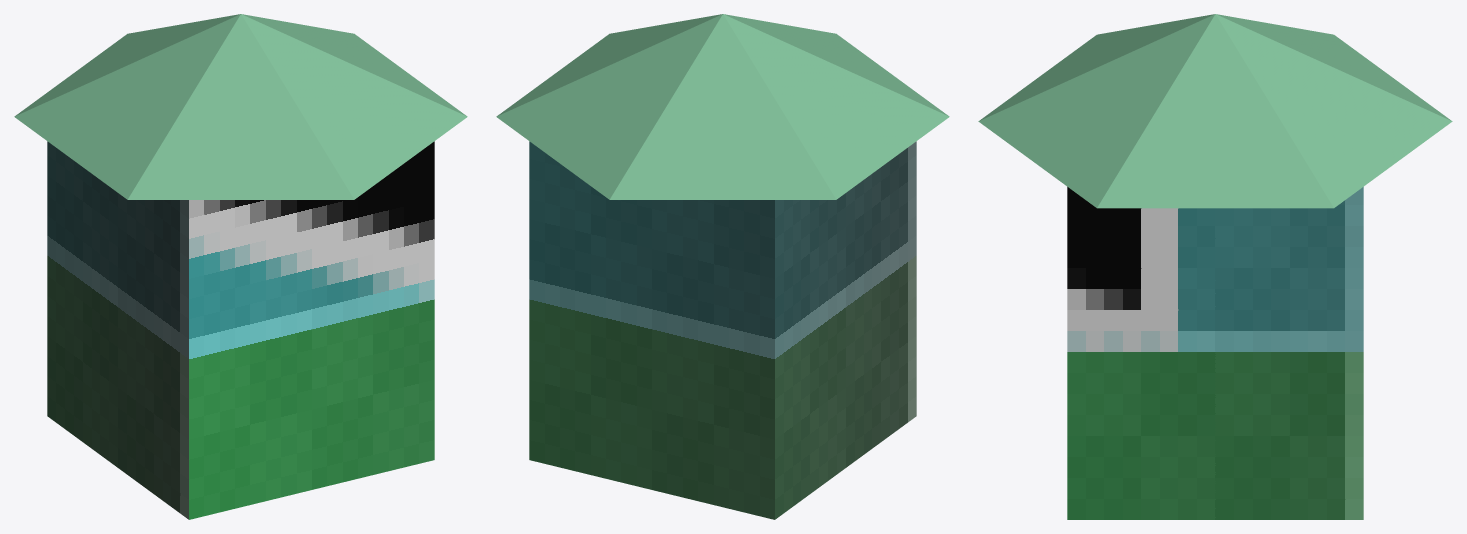
File: dcc_roundtrip.glb
3 renders of one model, left to right at view 1: azimuth 30°, elevation 25°; view 2: azimuth 150°, elevation 25°; view 3: azimuth 270°, elevation 25°, orthographic. The views are drawn at different scales.
Visible parts, largest first — view 1: KioskBody-col, KioskRoof; view 2: KioskBody-col, KioskRoof; view 3: KioskBody-col, KioskRoof.
Part boxes in pixels (x1,y1,x2,y2): KioskBody-col: (47,141,434,519); KioskRoof: (14,14,467,199); KioskBody-col: (529,141,916,519); KioskRoof: (496,14,949,199); KioskBody-col: (1067,187,1363,519); KioskRoof: (978,14,1452,208).
Bounding box in the file's own units: 2.77 × 3.3 × 3.2.
Materials: 2 (1 with a texture image).
